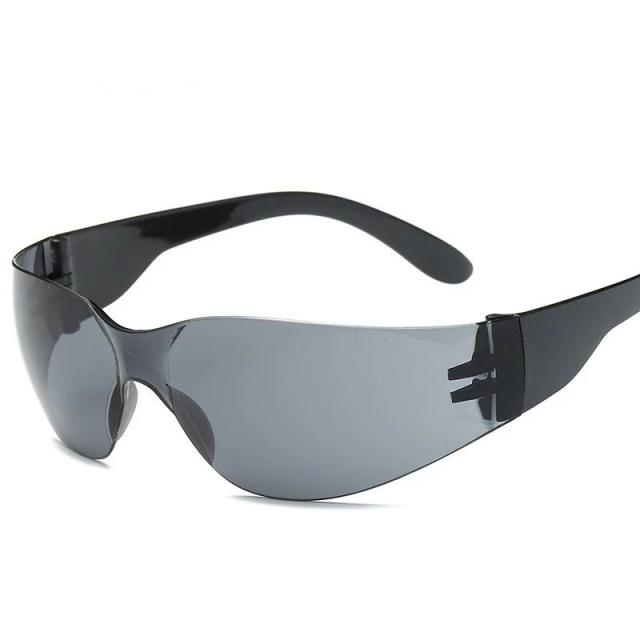Protective Glasses: (0, 170, 640, 514)
